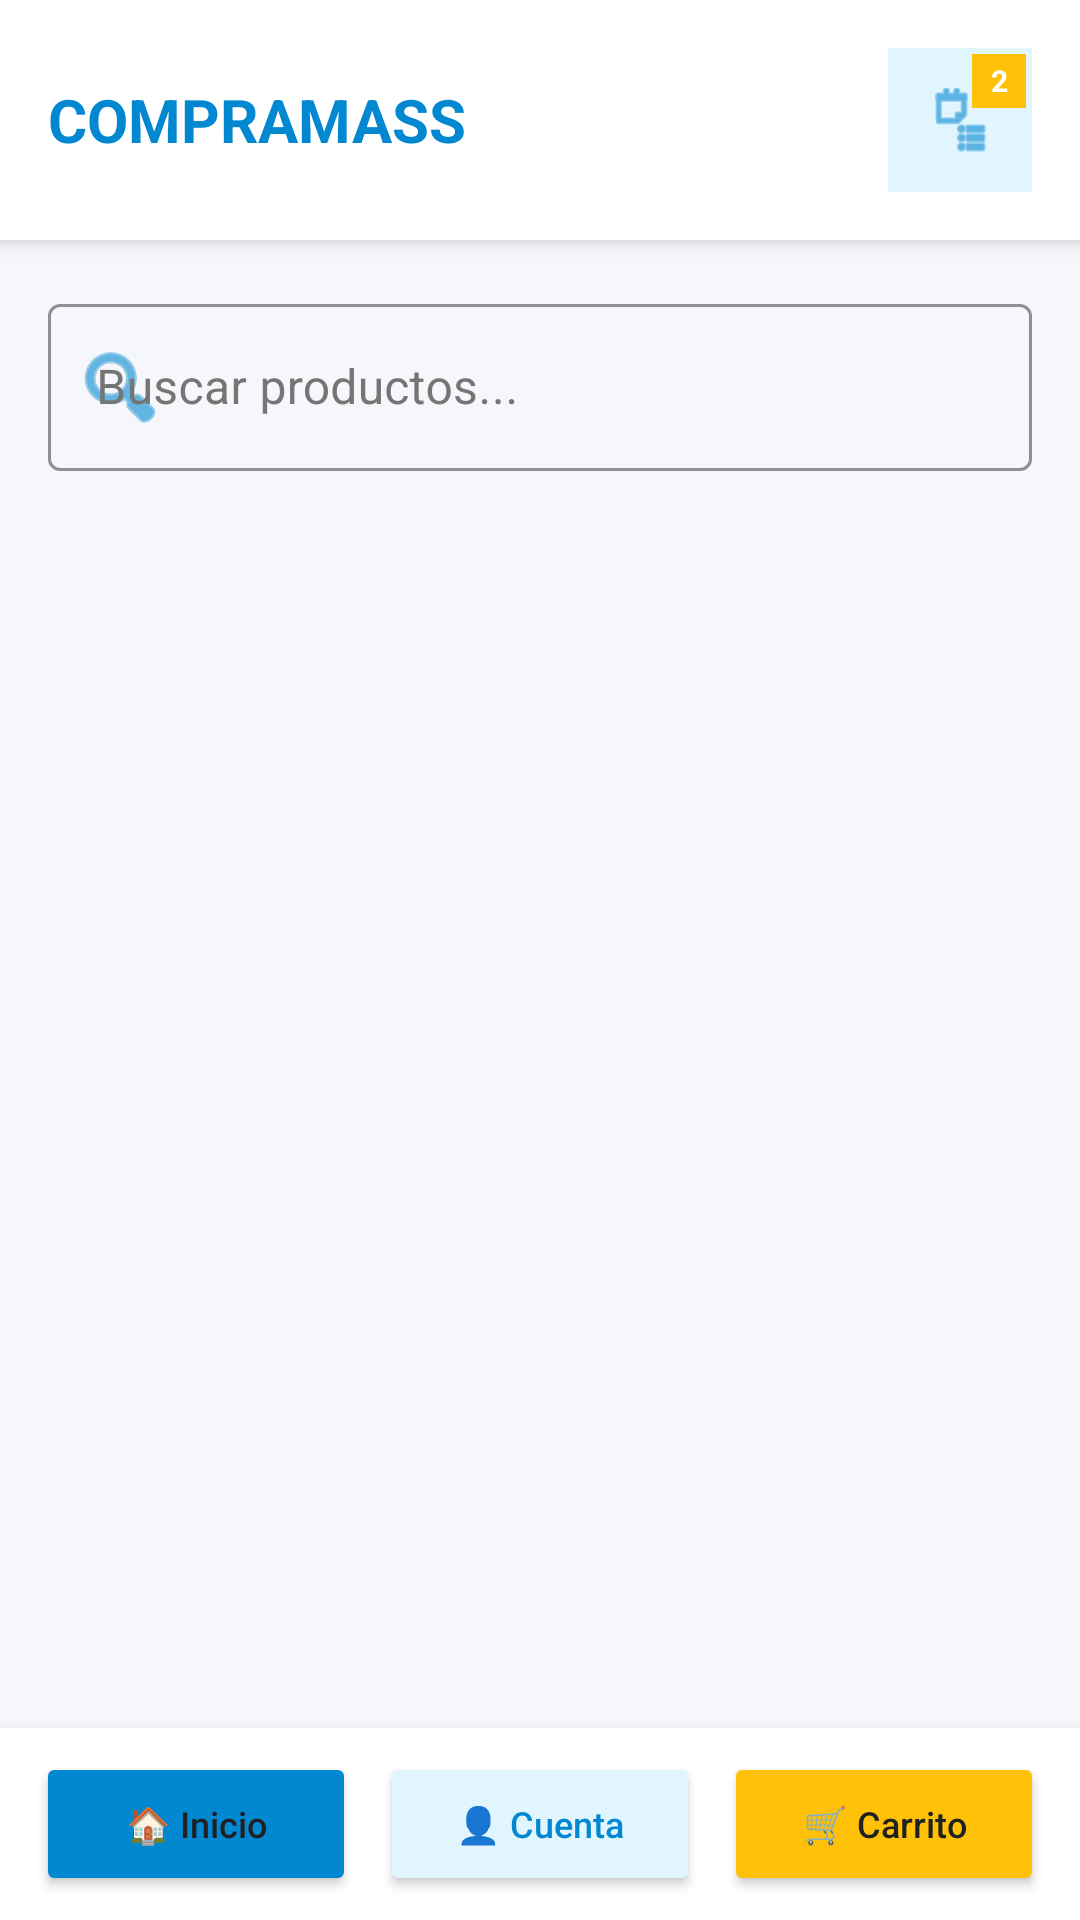

Named icons in this screenshot (1080px x 1920px) and their bounding boxes, [x1, y1, x2, y2]:
agenda: [935, 88, 986, 152]
